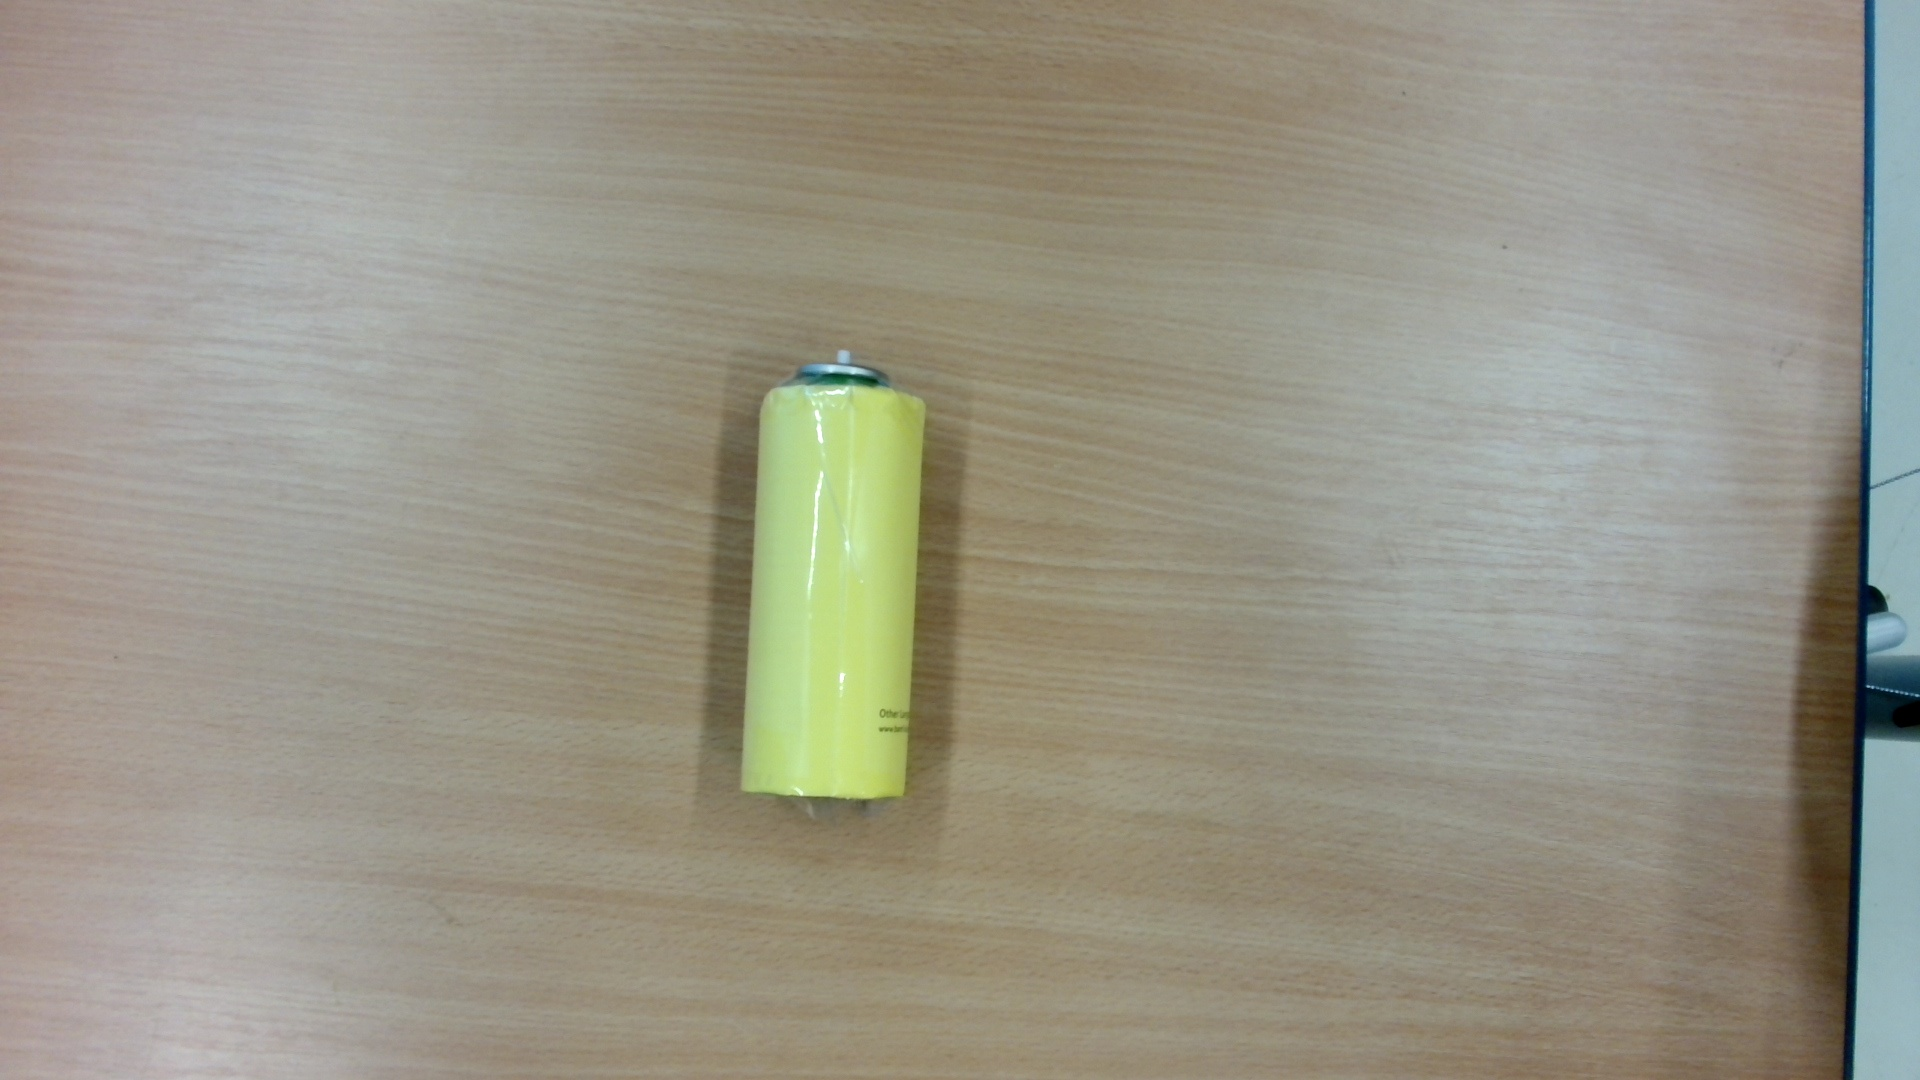Cylinder: (735, 344, 938, 822)
